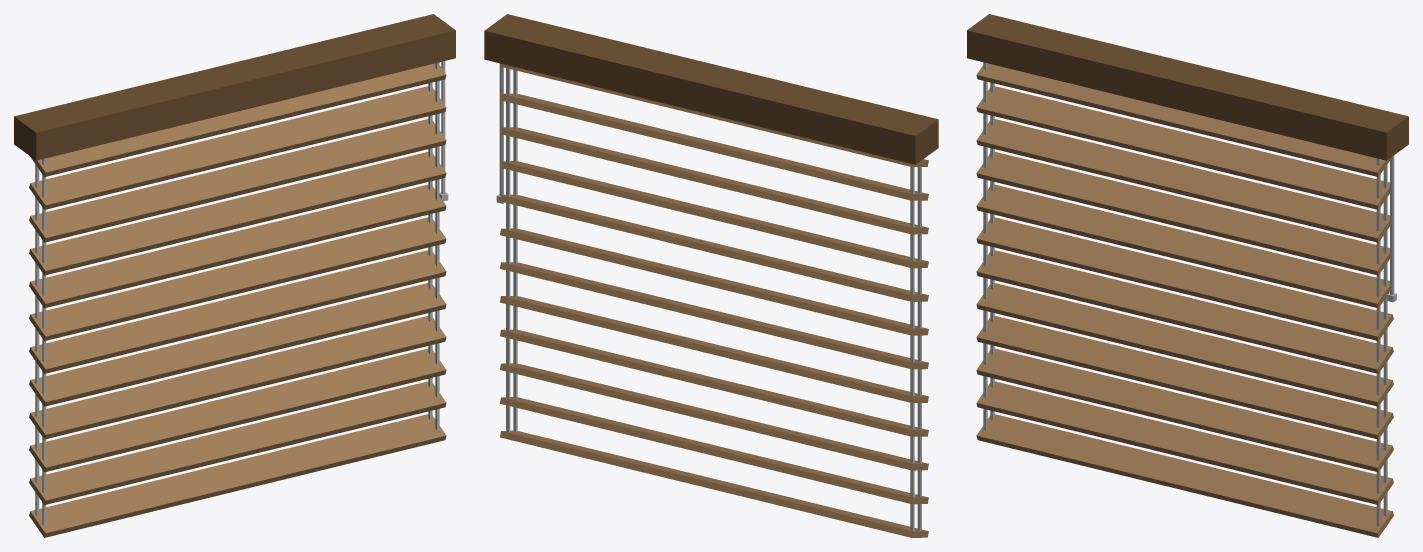
Rendered from Curtains11_C3.fbx.
3 renders of one model, left to right at view 1: azimuth 30°, elevation 25°; view 2: azimuth 150°, elevation 25°; view 3: azimuth 330°, elevation 25°, orthographic. The views are drawn at different scales.
Parts seen in each view (by area): view 1: Curtains11_C3; view 2: Curtains11_C3; view 3: Curtains11_C3.
Boxes of the visible parts, box(x1,y1,x2,y2) form: Curtains11_C3: box(14, 14, 455, 537); Curtains11_C3: box(484, 14, 938, 537); Curtains11_C3: box(967, 14, 1408, 537).
Size of the model in its own units: 138 by 128 by 12.67.
